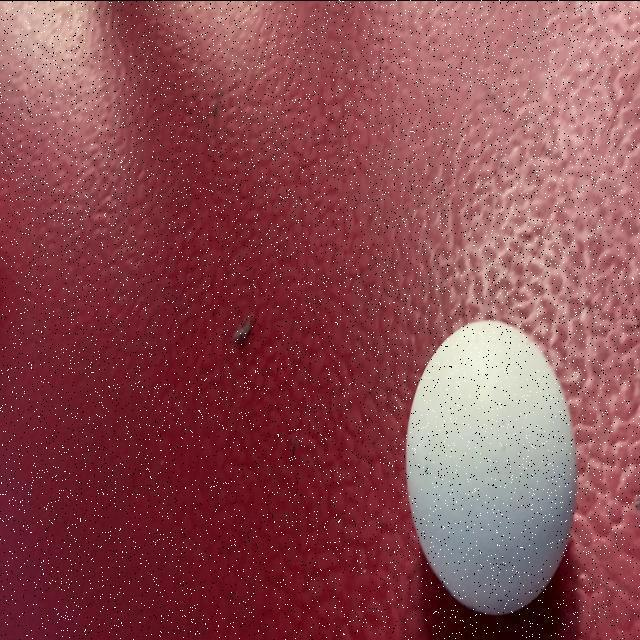ping-pong-ball: (394, 308, 600, 632)
